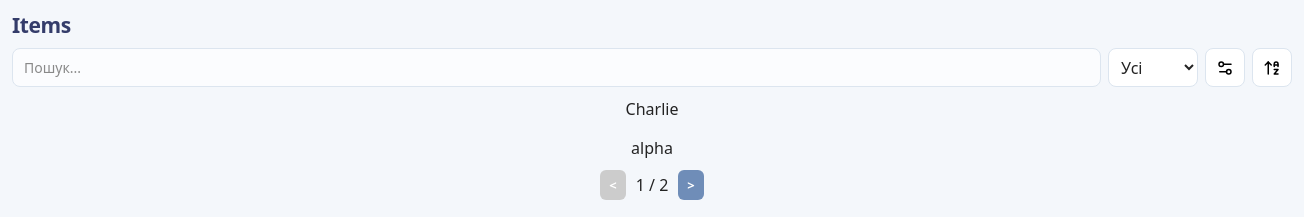
Test: PaginatedSearchableList › pagination › paginates and navigates between pages
The width and height of the screenshot is (1304, 217).
Expected: the text "1 / 2" is shown, [636,173,668,197]
Expected: the button "<" is disabled, [600,170,626,200]
Click the button ">": x=691, y=185 [678,170,704,200]
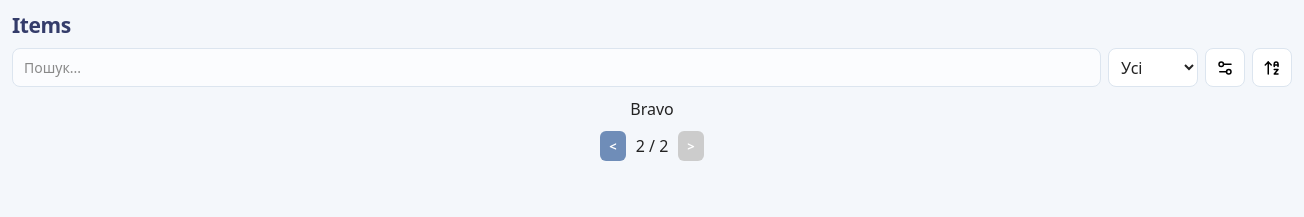
Result: the text "2 / 2" is shown at [636,134,668,158]
Result: the button ">" is disabled at [678,131,704,161]
Click the button "<": x=613, y=146 [600,131,626,161]
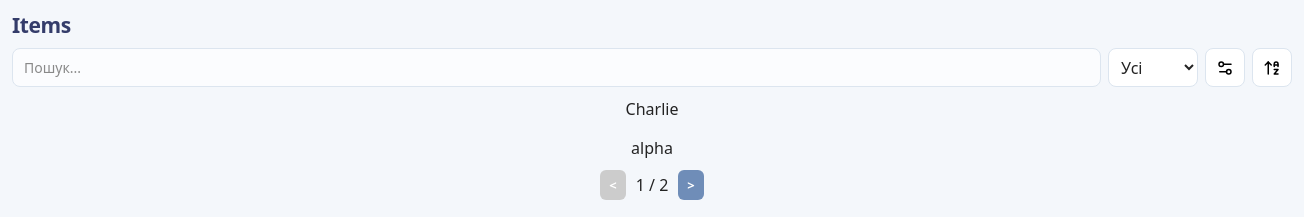
Result: the text "1 / 2" is shown at [636,173,668,197]
